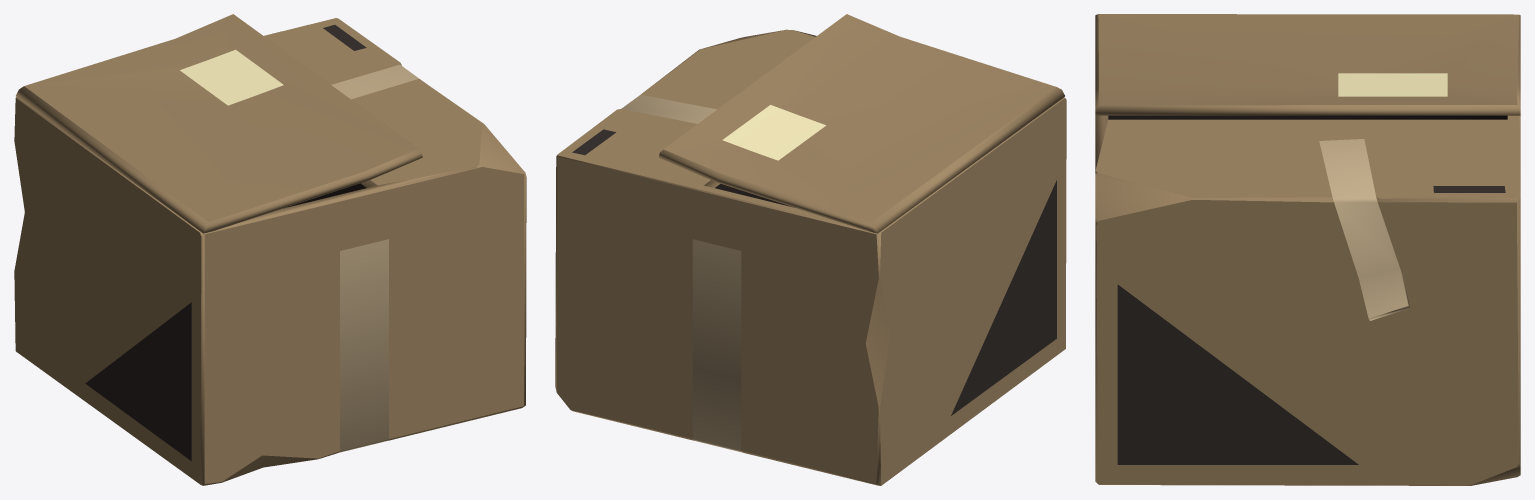
File: CardboardBox.FBX
The picture shows the model from 3 angles, left to right: view 1: azimuth 30°, elevation 25°; view 2: azimuth 150°, elevation 25°; view 3: azimuth 270°, elevation 25°; orthographic projection. The views are drawn at different scales.
Visible parts, largest first — view 1: CardboardBox; view 2: CardboardBox; view 3: CardboardBox.
Part boxes in pixels (x1,y1,x2,y2): CardboardBox: [14, 14, 526, 485]; CardboardBox: [555, 14, 1066, 485]; CardboardBox: [1095, 14, 1520, 485].
Bounding box in the file's own units: 52.36 × 41.75 × 49.94.
